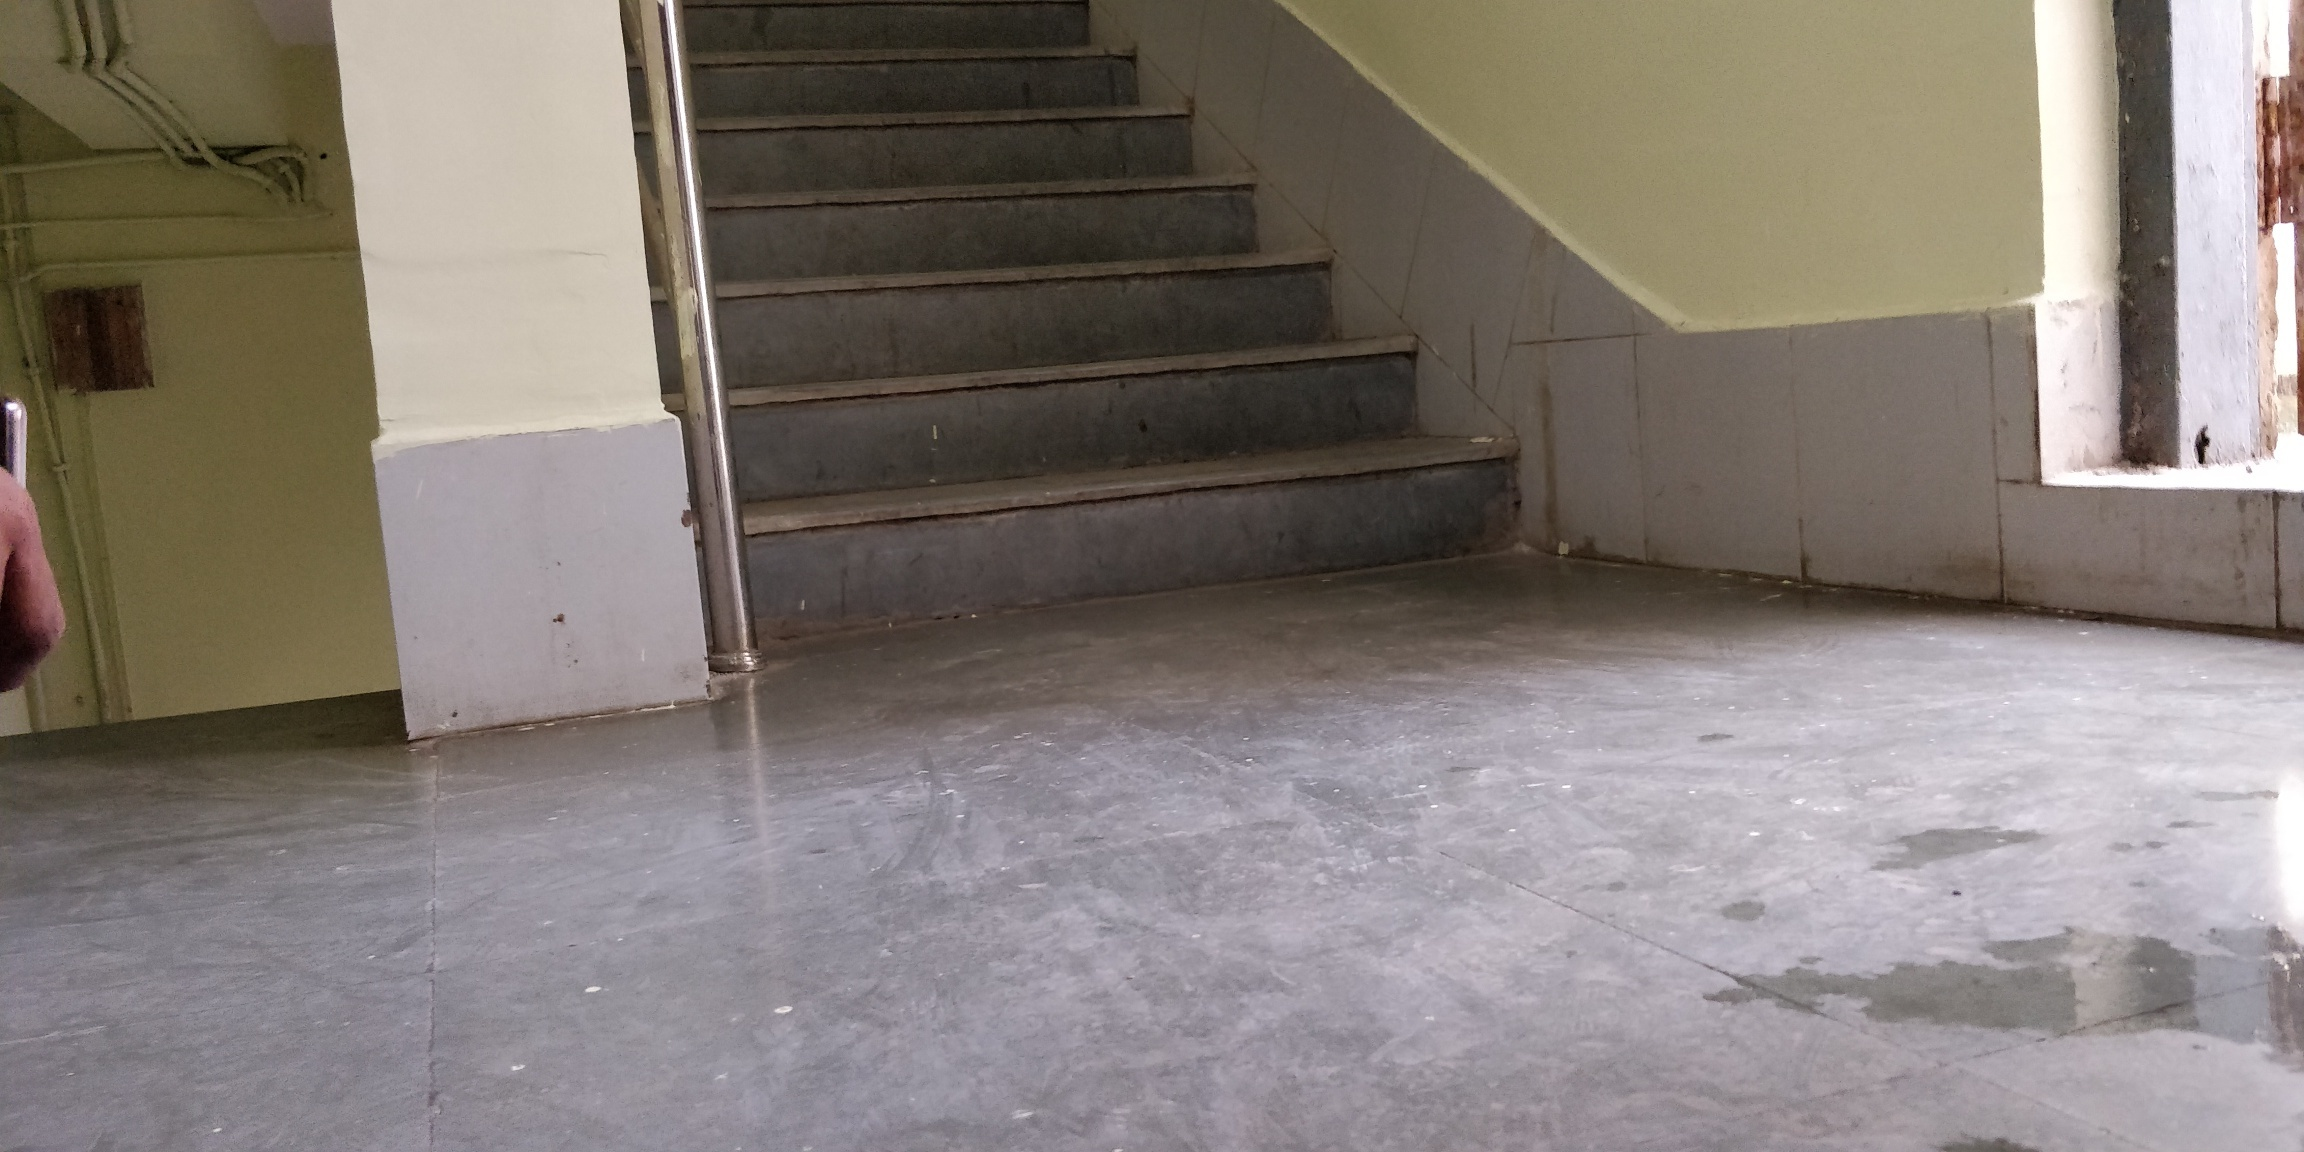stairs_up: (658, 54, 1560, 573)
